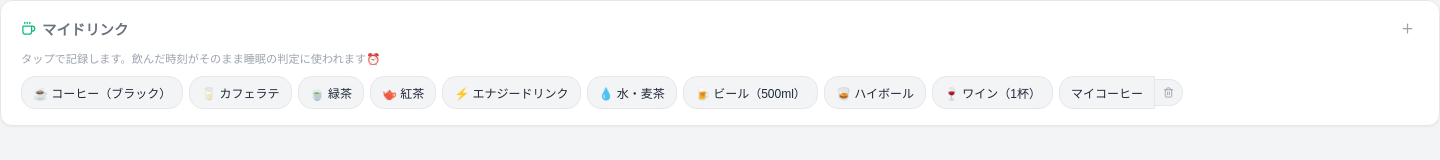
Test case: DrinkQuickLog › deletes a custom preset on success
expect the button "マイコーヒー" is shown: met, box [1059, 76, 1155, 109]
Step 1. Click the button named "マイコーヒーを削除" → coordinates (1169, 92), box [1155, 79, 1183, 106]
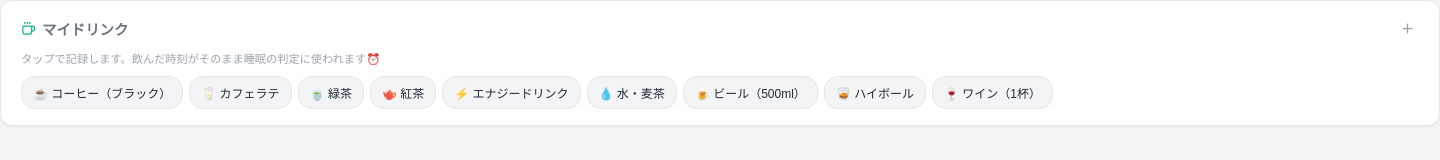
expect the button "マイコーヒー" is gone: met
